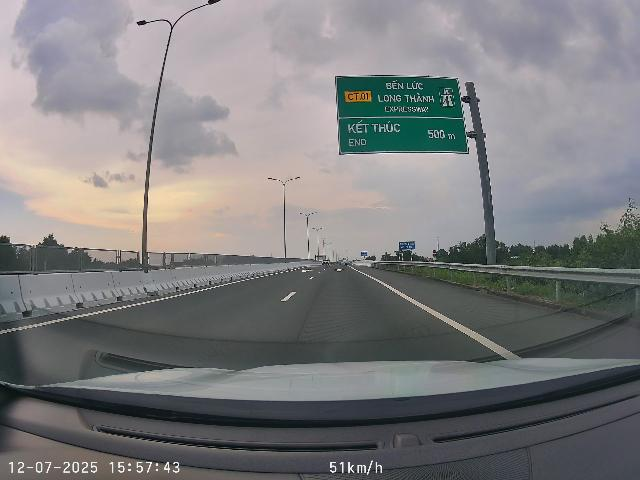438-ket-thuc-duong-cao-toc: (438, 88, 456, 108)
